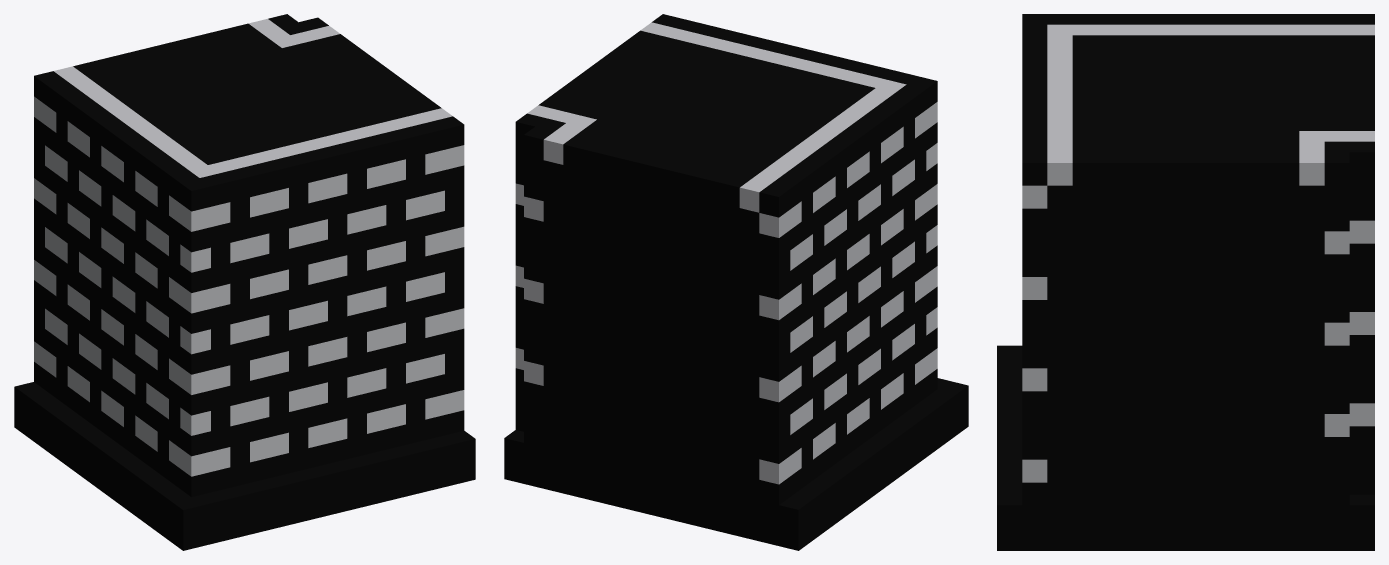
File: dungeon_d_a_inner_wall_corner_b.obj
3 views of the same model, side by side, from view 1: azimuth 30°, elevation 25°; view 2: azimuth 150°, elevation 25°; view 3: azimuth 270°, elevation 25° (orthographic). The views are drawn at different scales.
Size of the model in its own units: 1.5 by 1.7 by 1.5.
1 material, 1 textured.
